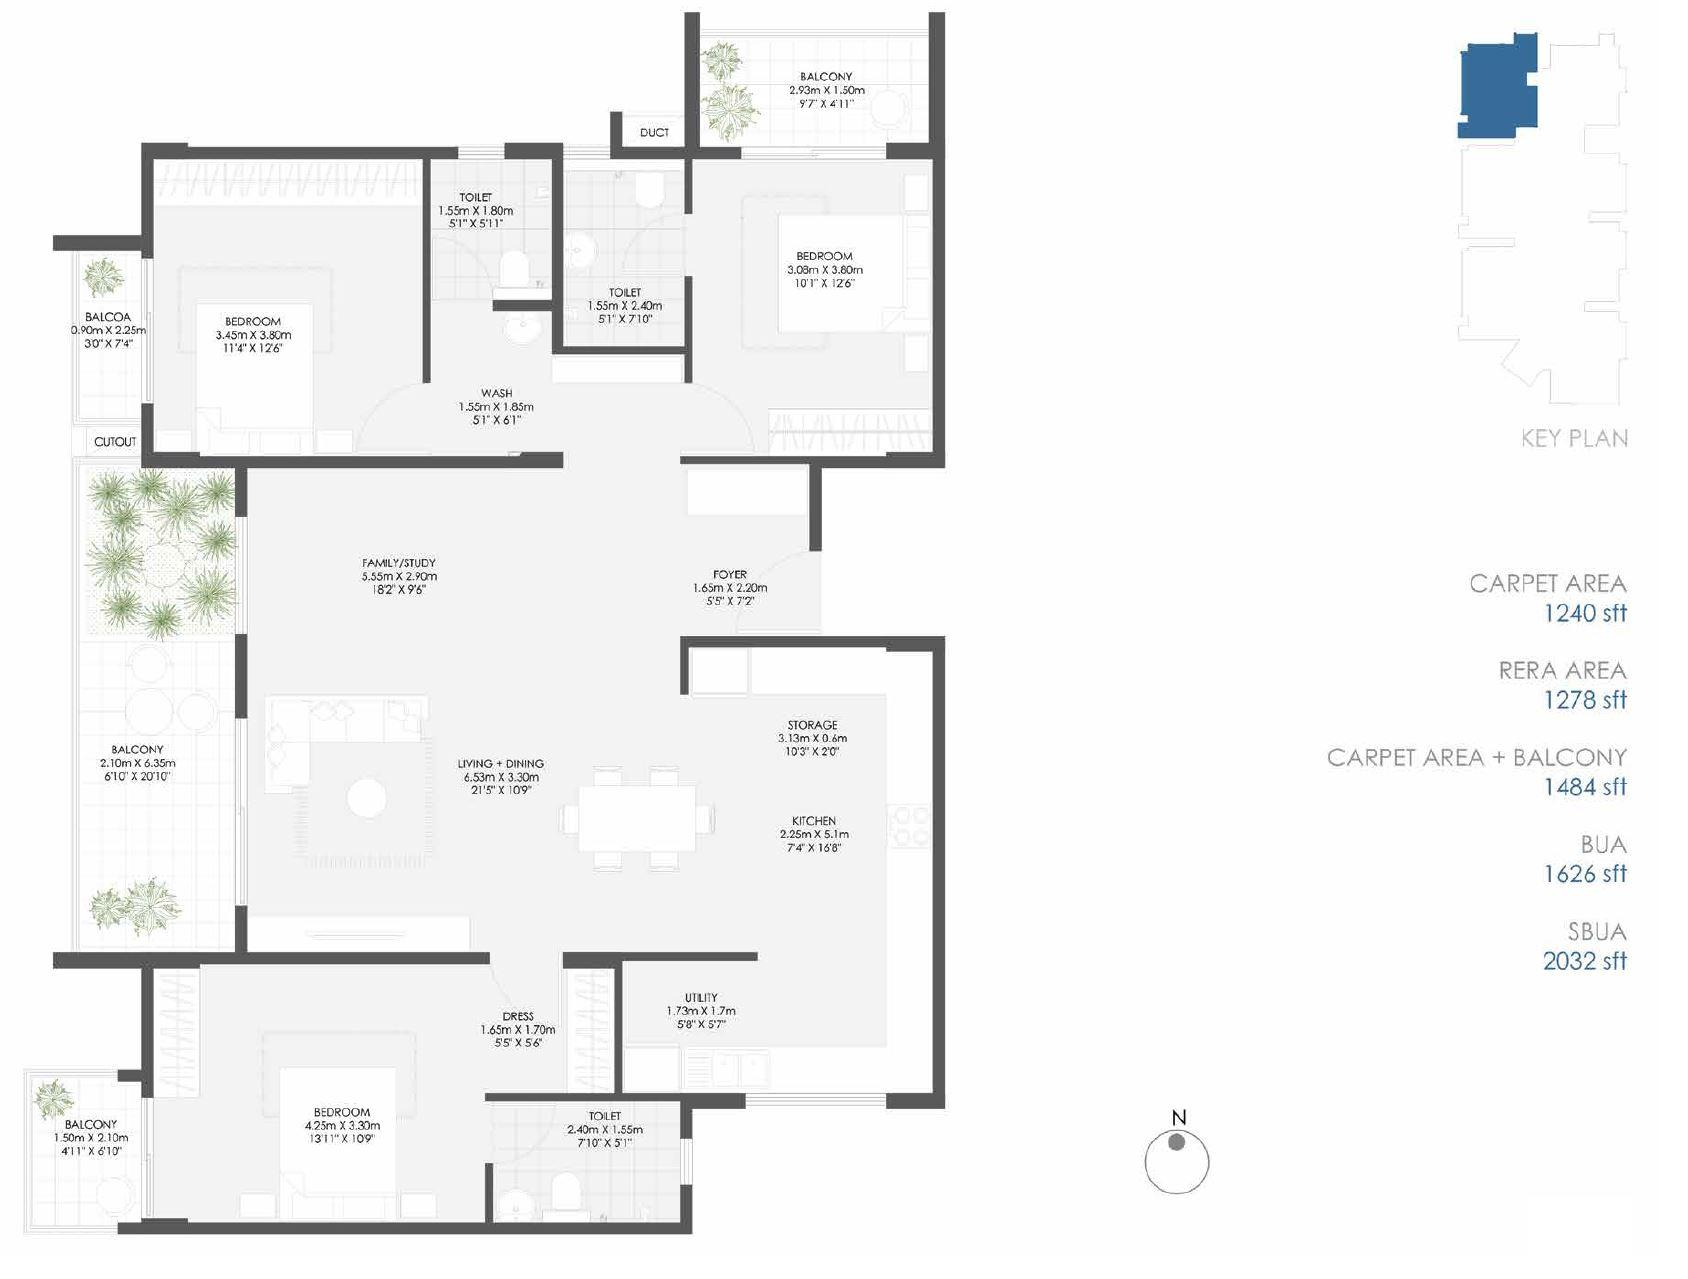Balcony: (83, 468, 236, 955), (690, 31, 931, 146)
Bed: (281, 1067, 400, 1221), (778, 216, 933, 335), (196, 305, 313, 454)
Bedroom: (152, 961, 483, 1225), (149, 159, 426, 455), (690, 156, 933, 455)
Dining Room: (525, 668, 747, 946)
Dining table: (553, 756, 729, 881)
Foyer: (571, 513, 818, 635)
Kitchen: (748, 649, 933, 1099)
Living Room: (248, 672, 526, 953)
Sofa: (270, 696, 427, 742), (267, 695, 314, 790)
Wardrobe: (153, 161, 420, 206), (769, 410, 933, 454), (153, 969, 199, 1099), (568, 973, 614, 1091), (685, 468, 808, 511), (552, 355, 685, 383)
balcoa: (30, 1076, 141, 1227), (73, 250, 146, 425)
commode: (498, 251, 530, 289), (552, 1172, 580, 1212), (635, 173, 662, 204)
door: (724, 541, 825, 639), (685, 378, 763, 458), (352, 380, 432, 457), (227, 715, 258, 906), (491, 957, 563, 1033), (481, 1102, 559, 1167), (226, 509, 265, 639), (620, 212, 690, 279), (431, 238, 494, 309), (736, 137, 886, 167), (133, 1091, 162, 1225), (136, 254, 158, 414)
dress: (485, 958, 614, 1095)
duct: (620, 113, 685, 149)
fridge: (692, 649, 748, 693)
kitchen-slab: (885, 652, 932, 1092), (682, 1047, 933, 1094), (749, 649, 932, 693)
sink: (685, 1052, 765, 1092), (501, 312, 544, 348), (568, 232, 598, 267), (501, 1189, 533, 1220)
stove: (886, 799, 935, 854)
study: (250, 468, 565, 669)
toilet: (489, 1102, 685, 1227), (563, 156, 685, 349), (431, 155, 553, 300)
tv: (308, 920, 410, 946)
utility: (620, 958, 761, 1092)
wash: (432, 314, 553, 459)
washing-machine: (622, 1047, 681, 1092)
